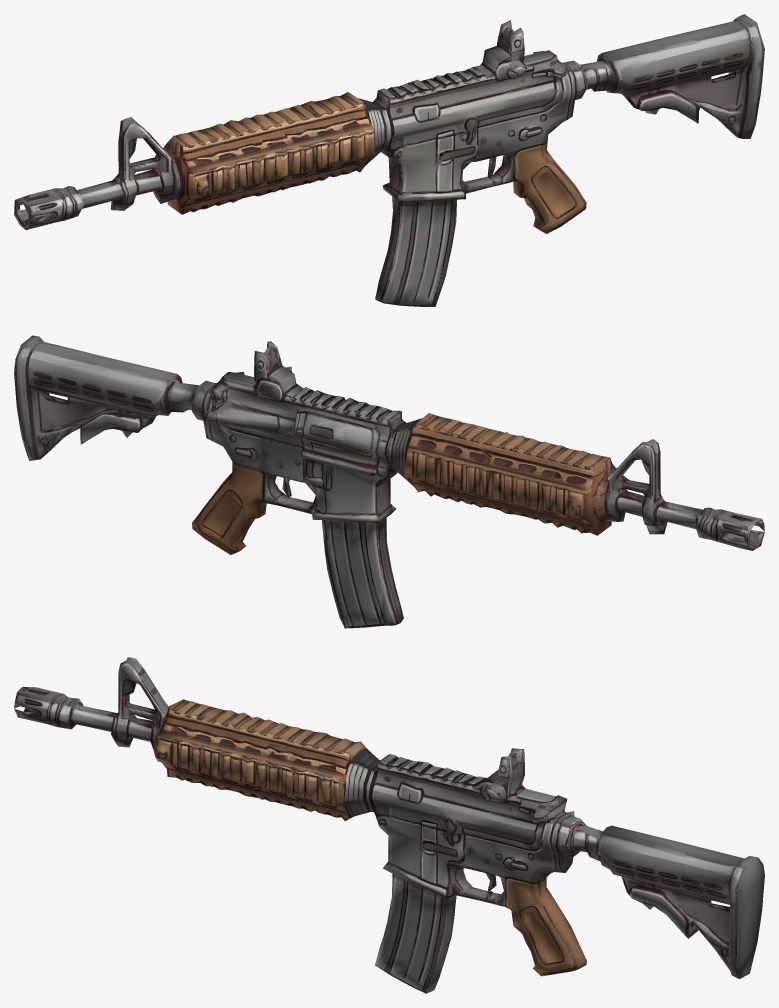
The model's file is Rifle.fbx.
3 renders of one model, top to bottom at view 1: azimuth 30°, elevation 25°; view 2: azimuth 150°, elevation 25°; view 3: azimuth 330°, elevation 25°, orthographic.
Visible parts, largest first — view 1: Mesh_0; view 2: Mesh_0; view 3: Mesh_0.
Boxes of the visible parts, bbox=[...] form: Mesh_0: bbox=[14, 14, 764, 306]; Mesh_0: bbox=[14, 335, 764, 628]; Mesh_0: bbox=[14, 657, 764, 993].
Bounding box in the file's own units: 191 × 64.9 × 21.22.
Materials: 1 (1 with a texture image).
